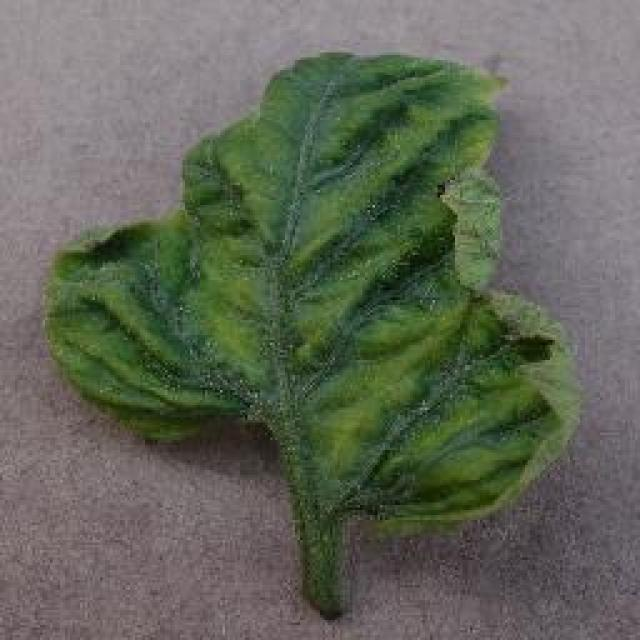Tomato yellow virus leaf: (46, 48, 586, 532)
